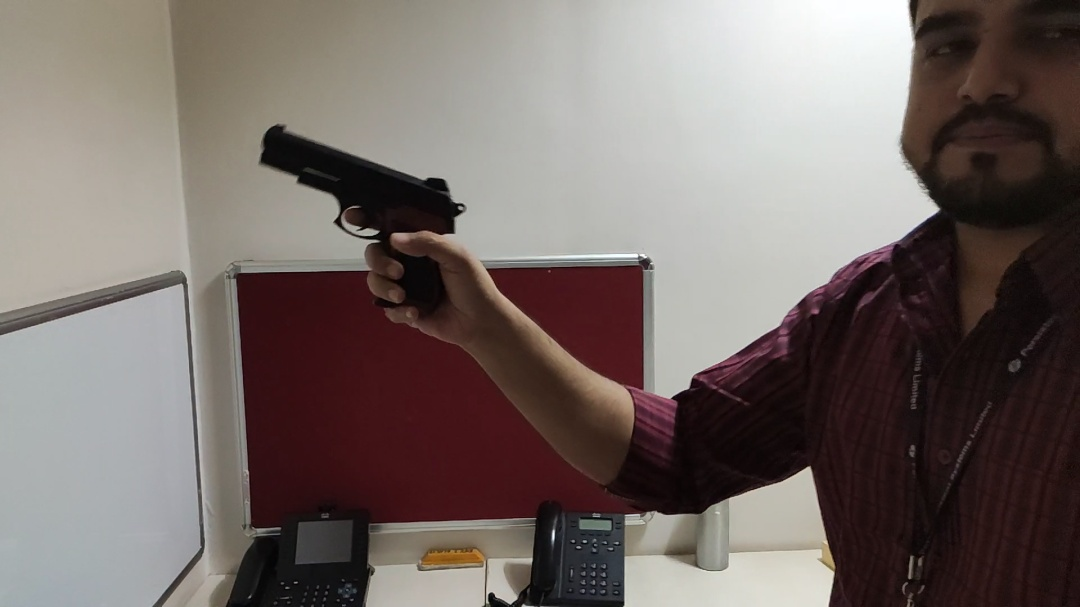gun: (259, 121, 469, 316)
